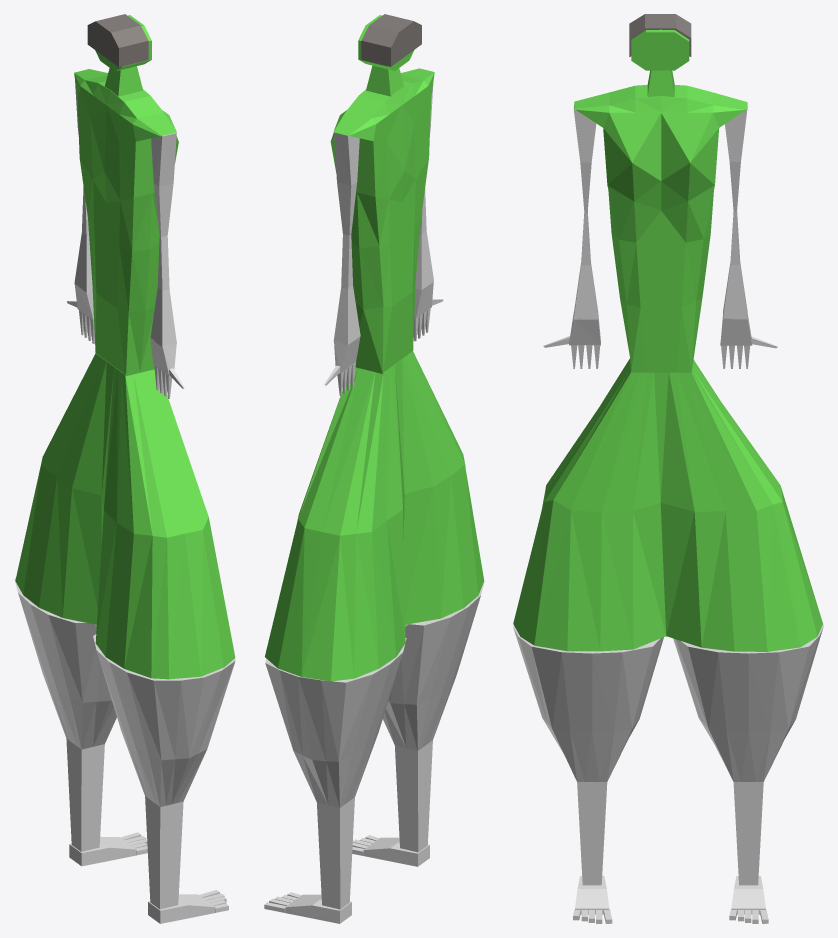
The model's file is vanamees.dae.
3 renders of one model, left to right at view 1: azimuth 30°, elevation 25°; view 2: azimuth 150°, elevation 25°; view 3: azimuth 270°, elevation 25°, orthographic.
Parts seen in each view (by area): view 1: Pants, Reg, Leg, Arm, Hair, Alm; view 2: Pants, Leg, Reg, Alm, Hair, Arm; view 3: Pants, Reg, Leg, Arm, Alm, Hair.
Boxes of the visible parts, <box> form: Pants: <box>15,15,235,679</box>; Reg: <box>93,634,235,923</box>; Leg: <box>14,577,147,866</box>; Arm: <box>150,132,184,398</box>; Hair: <box>87,14,148,67</box>; Alm: <box>67,81,94,343</box>; Pants: <box>265,15,484,681</box>; Leg: <box>264,638,406,923</box>; Reg: <box>352,581,484,866</box>; Alm: <box>324,132,360,395</box>; Hair: <box>361,14,421,66</box>; Arm: <box>413,84,443,341</box>; Pants: <box>513,29,822,651</box>; Reg: <box>513,625,663,923</box>; Leg: <box>673,624,823,923</box>; Arm: <box>543,103,600,368</box>; Alm: <box>720,110,777,368</box>; Hair: <box>629,14,691,56</box>.
Bounding box in the file's own units: 1.17 × 2.69 × 8.27.
